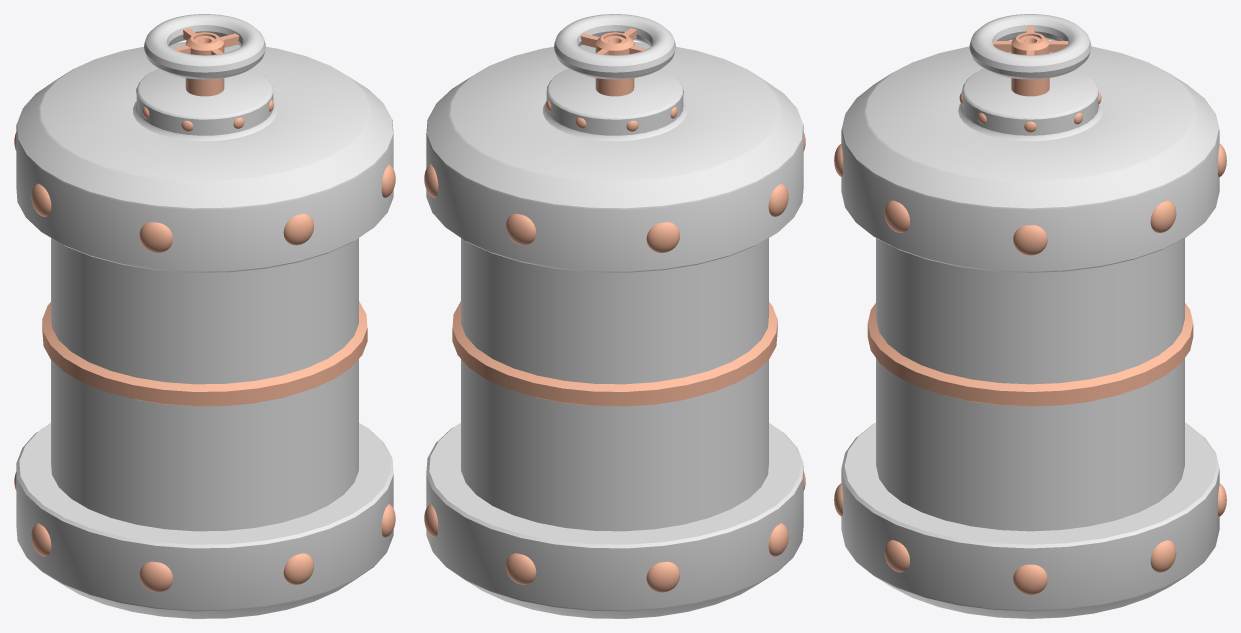
File: grenade_SP.fbx
The picture shows the model from 3 angles, left to right: view 1: azimuth 30°, elevation 25°; view 2: azimuth 150°, elevation 25°; view 3: azimuth 270°, elevation 25°; orthographic projection.
Visible parts, largest first — view 1: Cylindre; view 2: Cylindre; view 3: Cylindre.
Boxes of the visible parts, x1,y1,x2,y2 form: Cylindre: [14, 14, 395, 618]; Cylindre: [424, 14, 805, 618]; Cylindre: [834, 14, 1226, 618].
Size of the model in its own units: 153 by 238 by 153.
